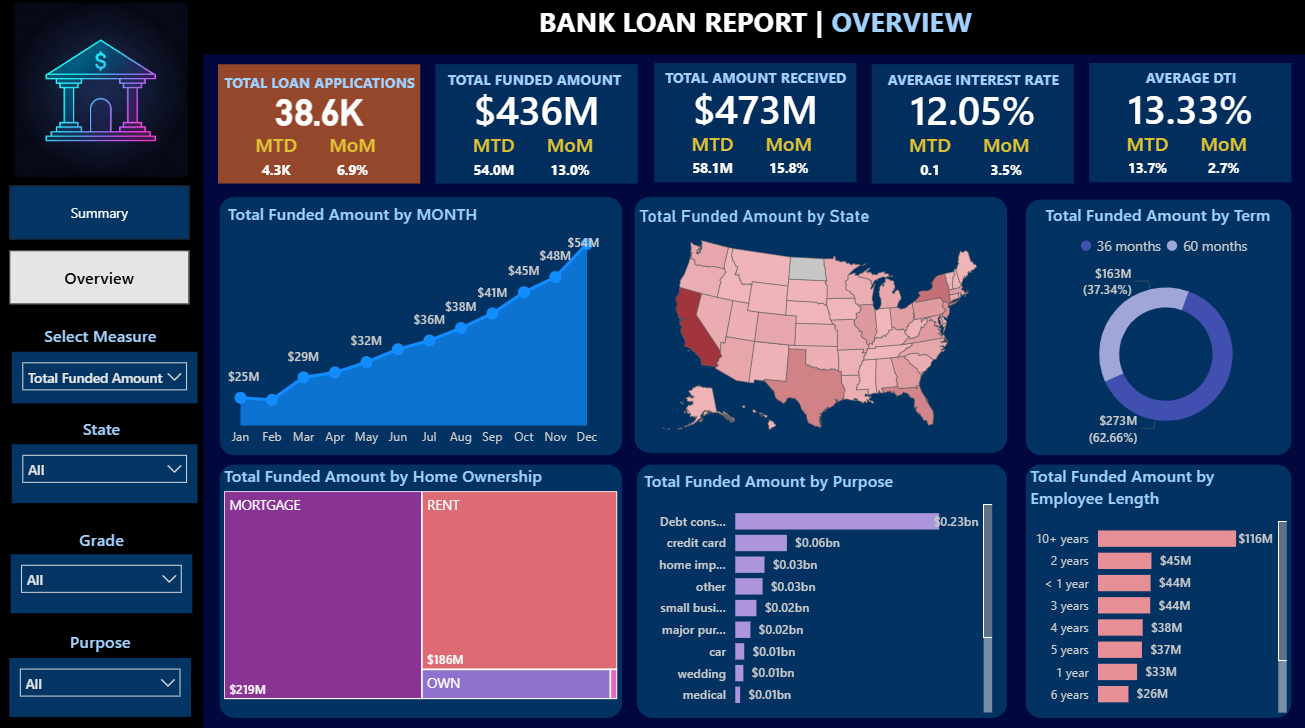

The dashboard page shown, as its layout file describes it:
{"tool":"powerbi","page":{"name":"Overview","canvas":[1280,720],"ordinal":1},"visuals":[{"type":"shape","box":[640.7,63.8,197.5,116.6],"z":0,"group":"g2"},{"type":"shape","box":[1066.3,63.8,197.5,116.6],"z":0,"group":"g8"},{"type":"shape","box":[853.5,64.4,197.5,116.6],"z":0,"group":"g6"},{"type":"shape","box":[214.7,65,197.5,116.6],"z":0,"group":"g9"},{"type":"shape","box":[428,65,197.5,116.6],"z":0,"group":"g4"},{"type":"shape","box":[216,193.9,393.9,252.8],"z":0},{"type":"shape","box":[0,0,1279.8,55.2],"z":1000},{"type":"card","fields":{"Values":["bank_loan.Total Amount Received"]},"box":[640.7,87.1,197.5,42.9],"z":1000,"group":"g2"},{"type":"card","fields":{"Values":["bank_loan.Avg DTI"]},"box":[1066.3,87.1,197.5,42.9],"z":1000,"group":"g8"},{"type":"card","fields":{"Values":["bank_loan.AVG Interest Rate"]},"box":[853.5,87.7,197.5,42.9],"z":1000,"group":"g6"},{"type":"card","fields":{"Values":["bank_loan.Total Loan Applications"]},"box":[214.7,88.3,197.5,42.9],"z":1000,"group":"g9"},{"type":"card","fields":{"Values":["bank_loan.Total Funded Amount"]},"box":[428,88.4,197.5,42.9],"z":1000,"group":"g4"},{"type":"shape","box":[0,0,200.5,721],"z":2000},{"type":"textbox","box":[641.9,63.8,196.3,36.8],"z":2000,"group":"g2"},{"type":"textbox","box":[1067.5,63.8,196.3,36.8],"z":2000,"group":"g8"},{"type":"textbox","box":[854.7,64.4,196.3,36.8],"z":2000,"group":"g6"},{"type":"textbox","box":[429.2,65,191.4,30.7],"z":2000,"group":"g4"},{"type":"textbox","box":[215.3,68.4,196.3,36.8],"z":2000,"group":"g9"},{"type":"textbox","box":[200,0,1079.8,89.6],"z":3000},{"type":"card","title":"MTD","fields":{"Values":["bank_loan.MTD Amount Received"]},"box":[664,130.1,67.5,54],"z":3000,"group":"g2"},{"type":"card","title":"MTD","fields":{"Values":["bank_loan.MTD Avg DTI"]},"box":[1089.6,130.1,67.5,54],"z":3000,"group":"g8"},{"type":"card","title":"MTD","fields":{"Values":["bank_loan.MTD Avg Interest Rate"]},"box":[876.8,130.7,67.5,54],"z":3000,"group":"g6"},{"type":"card","title":"MTD","fields":{"Values":["bank_loan.MTD Loan Applications"]},"box":[238,131.3,67.5,54],"z":3000,"group":"g9"},{"type":"card","title":"MTD","fields":{"Values":["bank_loan.MTD Funded Amount"]},"box":[451.3,131.3,67.5,54],"z":3000,"group":"g4"},{"type":"card","title":"MoM","fields":{"Values":["bank_loan.MoM Amount Received"]},"box":[740.1,130.1,65,54],"z":4000,"group":"g2"},{"type":"card","title":"MoM","fields":{"Values":["bank_loan.MoM Avg DTI"]},"box":[1165.7,130.1,65,54],"z":4000,"group":"g8"},{"type":"card","title":"MoM","fields":{"Values":["bank_loan.MoM Avg Interest Rate"]},"box":[952.9,130.7,65,54],"z":4000,"group":"g6"},{"type":"card","title":"MoM","fields":{"Values":["bank_loan.MoM Loan Applications"]},"box":[314.1,131.3,65,54],"z":4000,"group":"g9"},{"type":"card","title":"MoM","fields":{"Values":["bank_loan.MoM Funded Amount"]},"box":[527.4,131.3,65,54],"z":4000,"group":"g4"},{"type":"group","id":"g1","title":"Group 1","box":[428,65,197.5,120.3],"z":5000},{"type":"group","id":"g2","title":"Group 2","box":[640.7,63.8,197.5,120.2],"z":5005,"group":"g7"},{"type":"group","id":"g3","title":"Group 2","box":[853.5,64.4,197.5,120.2],"z":5005,"group":"g5"},{"type":"group","id":"g4","title":"Group 2","box":[428,65,197.5,120.3],"z":5005,"group":"g1"},{"type":"group","id":"g5","title":"Group 1","box":[853.5,64.4,197.5,120.2],"z":6000},{"type":"group","id":"g6","title":"Group 3","box":[853.5,64.4,197.5,120.2],"z":6001,"group":"g3"},{"type":"group","id":"g7","title":"Group 1","box":[640.7,63.8,197.5,120.2],"z":7000},{"type":"group","id":"g8","title":"Group 3","box":[1066.3,63.8,197.5,120.2],"z":8000},{"type":"shape","box":[622.1,193.9,364.4,250.3],"z":9000},{"type":"slicer","fields":{"Values":["bank_loan.address_state"]},"box":[13.8,436.2,181.2,57.5],"z":10000},{"type":"textbox","box":[1.2,403.8,200,32.5],"z":11000},{"type":"slicer","fields":{"Values":["bank_loan.grade"]},"box":[12.5,543.8,177.5,57.5],"z":12000},{"type":"slicer","fields":{"Values":["bank_loan.Good VS Bad Loan"]},"box":[11.2,645,177.5,57.5],"z":13000},{"type":"textbox","box":[1.2,512.5,200,31.2],"z":14000},{"type":"textbox","box":[0,612.5,200,32.5],"z":15000},{"type":"slicer","fields":{"Values":["Select Measure.Select Measure"]},"box":[13.8,345,181.2,50],"z":17000},{"type":"textbox","box":[0,313.8,200,31.2],"z":18000},{"type":"shape","box":[1003.7,196.3,260.1,250.3],"z":19000},{"type":"donutChart","fields":{"Y":["bank_loan.Total Funded Amount"],"Category":["bank_loan.term"]},"box":[1018.4,200,245.4,244.2],"z":20000},{"type":"shape","box":[216,455.2,393.9,247.9],"z":21000},{"type":"shape","box":[624.5,455.2,362,247.9],"z":22000},{"type":"shape","box":[1003.7,455.2,260.1,247.9],"z":23000},{"type":"barChart","fields":{"Y":["bank_loan.Total Funded Amount"],"Category":["bank_loan.emp_length"]},"box":[1003.7,455.2,260.1,247.9],"z":24000},{"type":"barChart","fields":{"Y":["bank_loan.Total Funded Amount"],"Category":["bank_loan.purpose"]},"box":[627,460.1,349.7,242.9],"z":25000},{"type":"treemap","fields":{"Values":["bank_loan.Total Funded Amount"],"Group":["bank_loan.home_ownership"]},"box":[216,455.2,393.9,234.4],"z":26000},{"type":"shapeMap","fields":{"Value":["bank_loan.Total Funded Amount"],"Category":["bank_loan.address_state"]},"box":[622.1,202.5,363.2,234.4],"z":27000},{"type":"pageNavigator","box":[11.2,183.8,176.2,117.5],"z":28000},{"type":"image","box":[0,0,200,180.4],"z":29000},{"type":"group","id":"g9","title":"Group 1","box":[214.7,65,197.5,120.2],"z":29001},{"type":"areaChart","fields":{"Category":["Date Table.MONTH"],"Y":["bank_loan.Total Funded Amount"]},"box":[219.6,198.8,373,247.9],"z":29002}]}

Visuals, with their boxes in screenshot pixels (x1, y1, x2, y2), scaled from the page's 1280x720 canvas onto the 1305x728 screenshot:
shape: locate(653, 65, 855, 182)
shape: locate(1087, 65, 1288, 182)
shape: locate(870, 65, 1072, 183)
shape: locate(219, 66, 420, 184)
shape: locate(436, 66, 638, 184)
shape: locate(220, 196, 622, 452)
shape: locate(0, 0, 1304, 56)
card - bank_loan.Total Amount Received: locate(653, 88, 855, 131)
card - bank_loan.Avg DTI: locate(1087, 88, 1288, 131)
card - bank_loan.AVG Interest Rate: locate(870, 89, 1072, 132)
card - bank_loan.Total Loan Applications: locate(219, 89, 420, 133)
card - bank_loan.Total Funded Amount: locate(436, 89, 638, 133)
shape: locate(0, 0, 204, 727)
textbox: locate(654, 65, 855, 102)
textbox: locate(1088, 65, 1288, 102)
textbox: locate(871, 65, 1072, 102)
textbox: locate(438, 66, 633, 97)
textbox: locate(220, 69, 420, 106)
textbox: locate(204, 0, 1304, 91)
"MTD" card: locate(677, 132, 746, 186)
"MTD" card: locate(1111, 132, 1180, 186)
"MTD" card: locate(894, 132, 963, 187)
"MTD" card: locate(243, 133, 311, 187)
"MTD" card: locate(460, 133, 529, 187)
"MoM" card: locate(755, 132, 821, 186)
"MoM" card: locate(1188, 132, 1255, 186)
"MoM" card: locate(972, 132, 1038, 187)
"MoM" card: locate(320, 133, 387, 187)
"MoM" card: locate(538, 133, 604, 187)
"Group 1" group: locate(436, 66, 638, 187)
"Group 2" group: locate(653, 65, 855, 186)
"Group 2" group: locate(870, 65, 1072, 187)
"Group 2" group: locate(436, 66, 638, 187)
"Group 1" group: locate(870, 65, 1072, 187)
"Group 3" group: locate(870, 65, 1072, 187)
"Group 1" group: locate(653, 65, 855, 186)
"Group 3" group: locate(1087, 65, 1288, 186)
shape: locate(634, 196, 1006, 449)
slicer - bank_loan.address_state: locate(14, 441, 199, 499)
textbox: locate(1, 408, 205, 441)
slicer - bank_loan.grade: locate(13, 550, 194, 608)
slicer - bank_loan.Good VS Bad Loan: locate(11, 652, 192, 710)
textbox: locate(1, 518, 205, 550)
textbox: locate(0, 619, 204, 652)
slicer - Select Measure.Select Measure: locate(14, 349, 199, 399)
textbox: locate(0, 317, 204, 349)
shape: locate(1023, 198, 1288, 452)
donutChart - bank_loan.Total Funded Amount x bank_loan.term: locate(1038, 202, 1288, 449)
shape: locate(220, 460, 622, 711)
shape: locate(637, 460, 1006, 711)
shape: locate(1023, 460, 1288, 711)
barChart - bank_loan.Total Funded Amount x bank_loan.emp_length: locate(1023, 460, 1288, 711)
barChart - bank_loan.Total Funded Amount x bank_loan.purpose: locate(639, 465, 996, 711)
treemap - bank_loan.Total Funded Amount x bank_loan.home_ownership: locate(220, 460, 622, 697)
shapeMap - bank_loan.Total Funded Amount x bank_loan.address_state: locate(634, 205, 1005, 442)
pageNavigator: locate(11, 186, 191, 305)
image: locate(0, 0, 204, 182)
"Group 1" group: locate(219, 66, 420, 187)
areaChart - Date Table.MONTH x bank_loan.Total Funded Amount: locate(224, 201, 604, 452)
